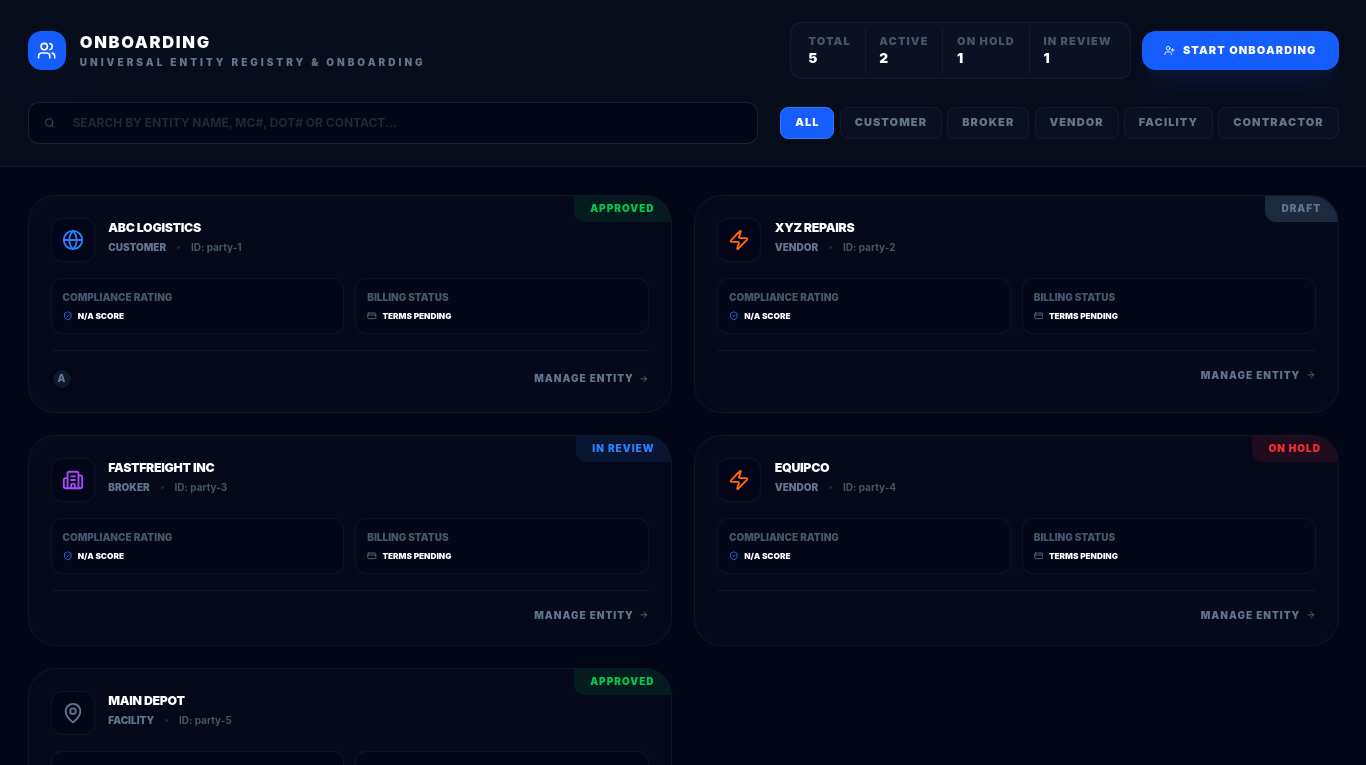
it: NetworkPortal coverage — deeper interactions › filters parties by type when Customer filter is clicked
The width and height of the screenshot is (1366, 765).
Check: the heading "ABC Logistics" is shown, box [108,220,201,235]
Click the button "Customer" at (891, 123), box [840,106,942,139]
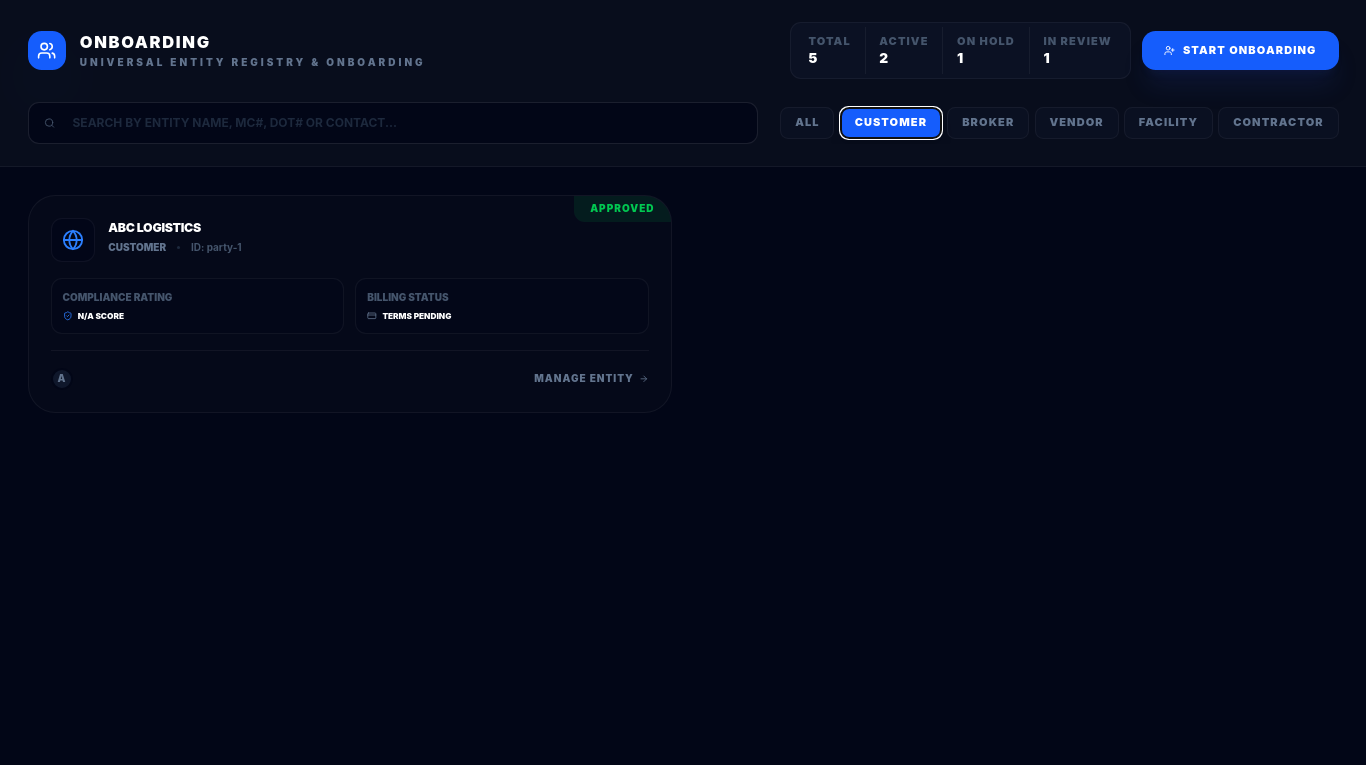
Check: the heading "ABC Logistics" is shown, box [108,220,201,235]
Check: the heading "XYZ Repairs" is gone
